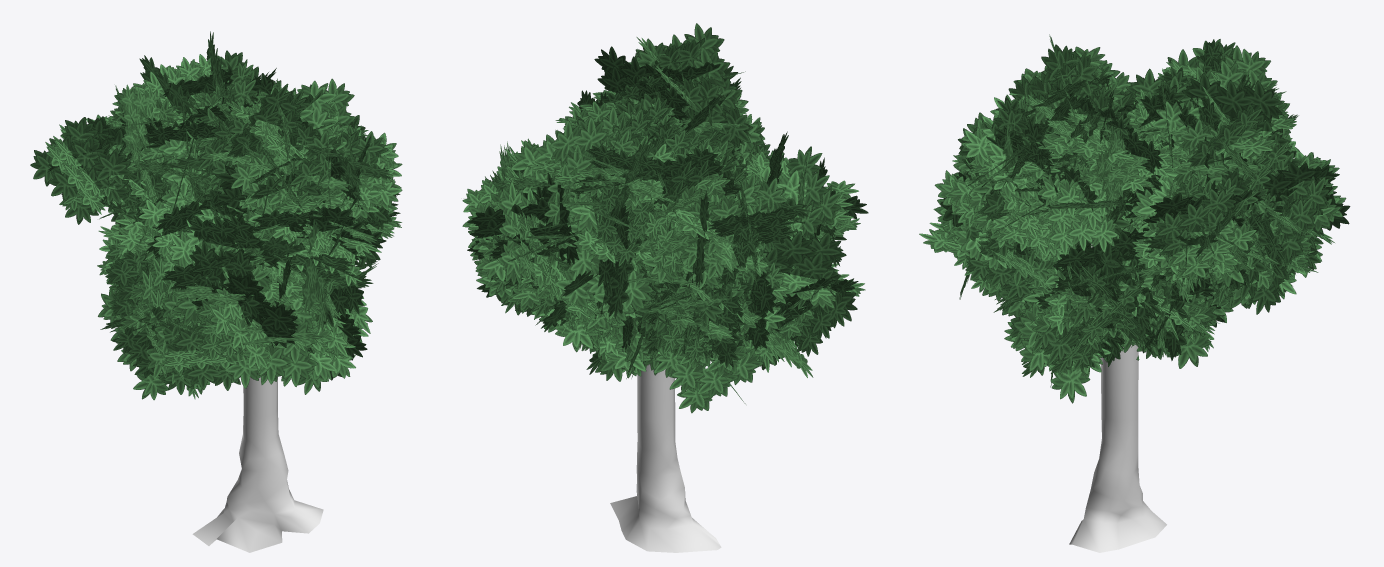
File: Tree1.fbx
3 views of the same model, side by side, from view 1: azimuth 30°, elevation 25°; view 2: azimuth 150°, elevation 25°; view 3: azimuth 270°, elevation 25° (orthographic). The views are drawn at different scales.
Parts seen in each view (by area): view 1: bladlos.003, boomstam lowpoly; view 2: bladlos.003, boomstam lowpoly; view 3: bladlos.003, boomstam lowpoly.
Boxes of the visible parts, x1,y1,x2,y2 form: bladlos.003: [30, 31, 402, 400]; boomstam lowpoly: [192, 377, 323, 552]; bladlos.003: [462, 23, 868, 413]; boomstam lowpoly: [610, 363, 721, 552]; bladlos.003: [919, 34, 1350, 403]; boomstam lowpoly: [1069, 244, 1166, 552].
Size of the model in its own units: 4.24 by 5.87 by 4.71.
